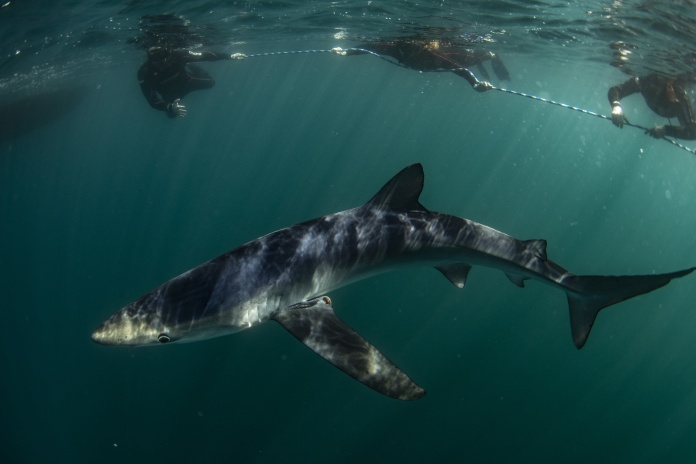Azul: (86, 163, 695, 404)
